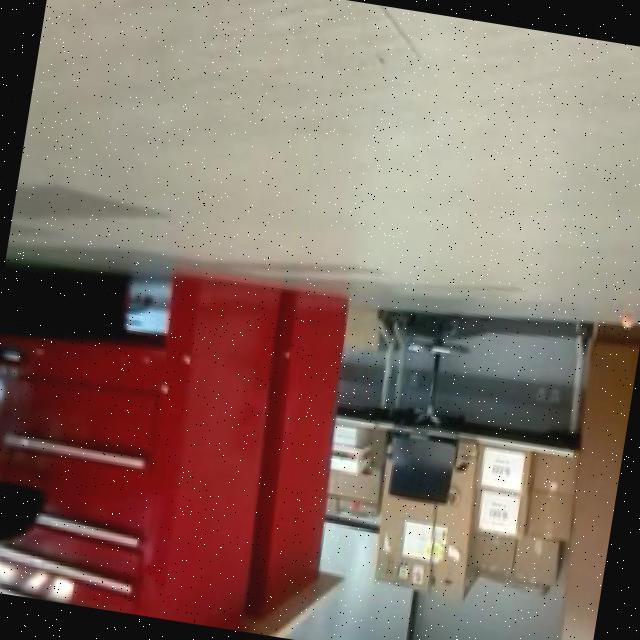ping-pong-ball: (618, 308, 638, 336)
